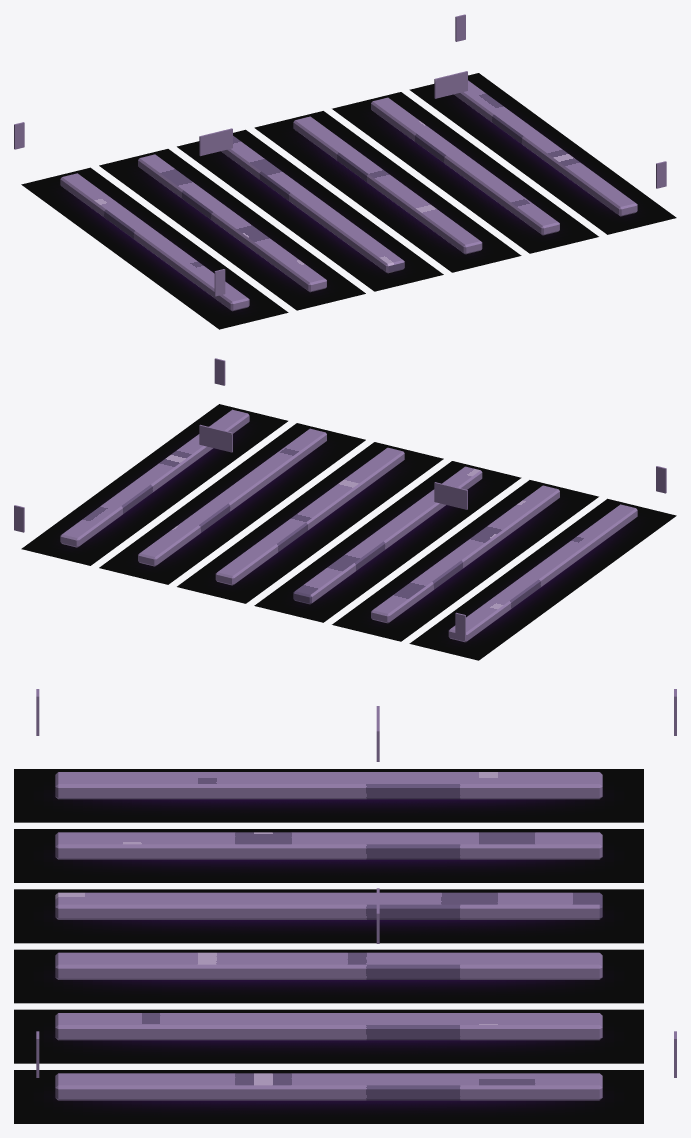
File: placed_uv_panel_6_lit_emission.obj
3 renders of one model, top to bottom at view 1: azimuth 30°, elevation 25°; view 2: azimuth 150°, elevation 25°; view 3: azimuth 270°, elevation 25°, orthographic. The views are drawn at different scales.
Parts seen in each view (by area): view 1: model; view 2: model; view 3: model.
Boxes of the visible parts, x1,y1,x2,y2 form: model: (14,14,676,329); model: (14,358,676,660); model: (14,689,676,1123).
Size of the model in its own units: 1.4 by 0.2513 by 1.1.
